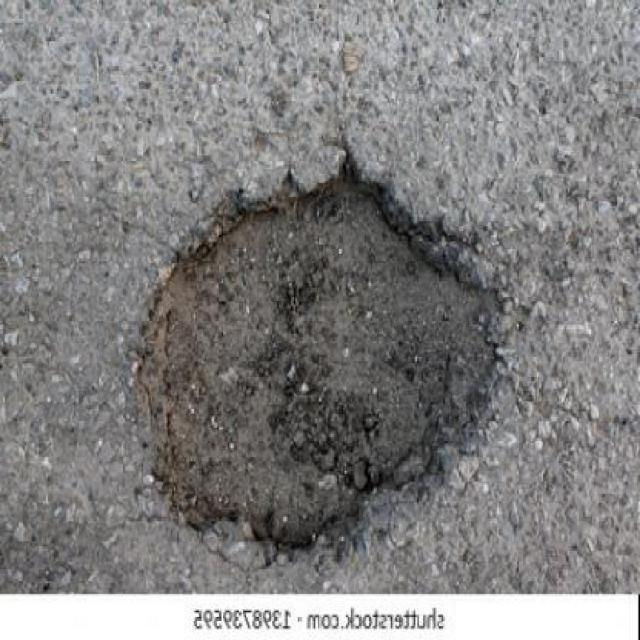pothole: (129, 151, 514, 559)
